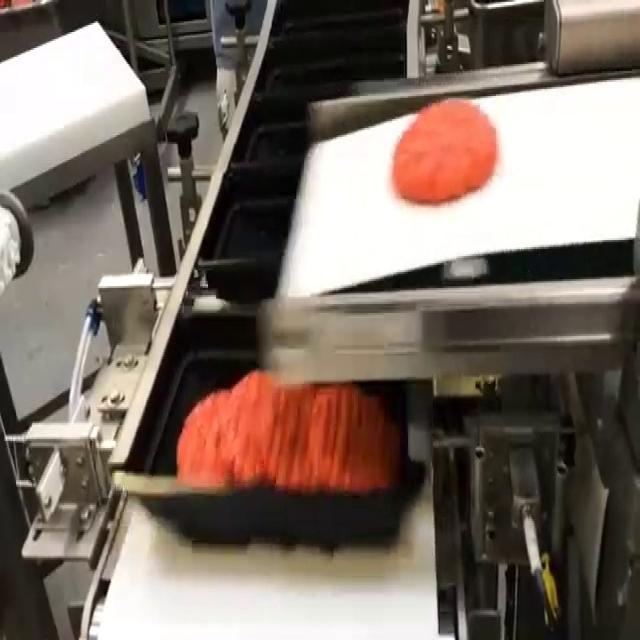4-hamburguer: (177, 370, 400, 491)
